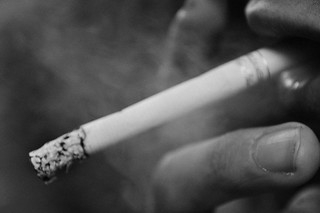cigarette: (26, 42, 314, 188)
